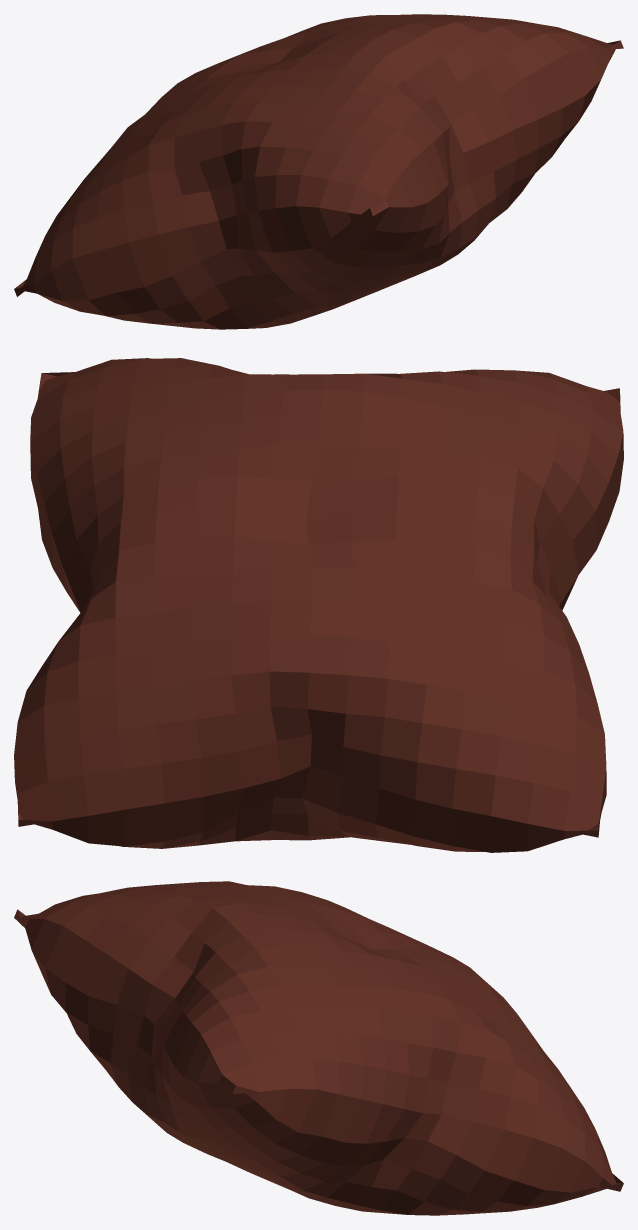
The model's file is perna sufragerie 2 .fbx.
The picture shows the model from 3 angles, top to bottom: view 1: azimuth 30°, elevation 25°; view 2: azimuth 150°, elevation 25°; view 3: azimuth 270°, elevation 25°; orthographic projection. The views are drawn at different scales.
Parts seen in each view (by area): view 1: Cube.014; view 2: Cube.014; view 3: Cube.014.
Part boxes in pixels (x1,y1,x2,y2): Cube.014: (14, 14, 623, 329); Cube.014: (14, 358, 623, 852); Cube.014: (14, 881, 623, 1215).
Size of the model in its own units: 82.22 by 43.37 by 79.99.
